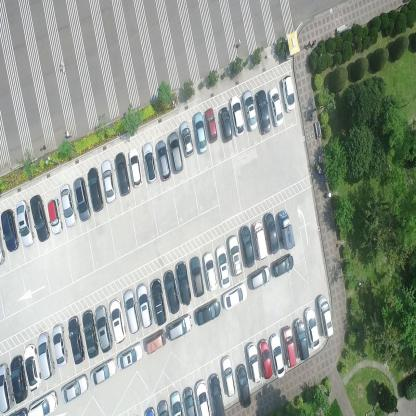car: (29, 195, 50, 243), (37, 331, 57, 381), (67, 314, 86, 365), (23, 344, 43, 392), (15, 200, 35, 247), (94, 305, 113, 353), (9, 356, 28, 404), (82, 309, 100, 359), (61, 371, 88, 404), (122, 288, 141, 334), (316, 293, 335, 339), (108, 297, 126, 345), (116, 342, 144, 372), (1, 209, 20, 252), (150, 278, 167, 326), (73, 177, 91, 222), (59, 184, 77, 229), (28, 388, 58, 415), (194, 297, 221, 326), (136, 283, 153, 329), (90, 356, 116, 386), (208, 372, 226, 415), (269, 330, 285, 378), (114, 151, 131, 196), (87, 167, 104, 212), (263, 211, 280, 256), (278, 209, 296, 251), (222, 280, 247, 310), (51, 324, 68, 368), (304, 305, 321, 349), (215, 243, 231, 289), (164, 268, 180, 314), (255, 89, 271, 134), (156, 138, 172, 183), (229, 93, 245, 137), (128, 146, 144, 190), (176, 261, 192, 305), (258, 336, 274, 380), (220, 354, 236, 398), (0, 362, 14, 412), (252, 220, 269, 261), (168, 311, 191, 341), (242, 89, 258, 132), (168, 130, 184, 173), (246, 341, 262, 384), (46, 197, 64, 235), (194, 378, 212, 416), (294, 316, 309, 361), (228, 234, 244, 276), (101, 158, 116, 202), (282, 324, 297, 368), (236, 363, 251, 407), (203, 251, 219, 292), (240, 224, 255, 267), (268, 86, 284, 126), (190, 254, 204, 298), (142, 143, 157, 184), (193, 112, 207, 154), (145, 327, 166, 355), (272, 253, 294, 279), (248, 263, 270, 289), (281, 74, 296, 112), (219, 104, 233, 144), (204, 107, 218, 144), (179, 119, 193, 156), (183, 386, 197, 415), (169, 390, 184, 415), (156, 400, 168, 416)
